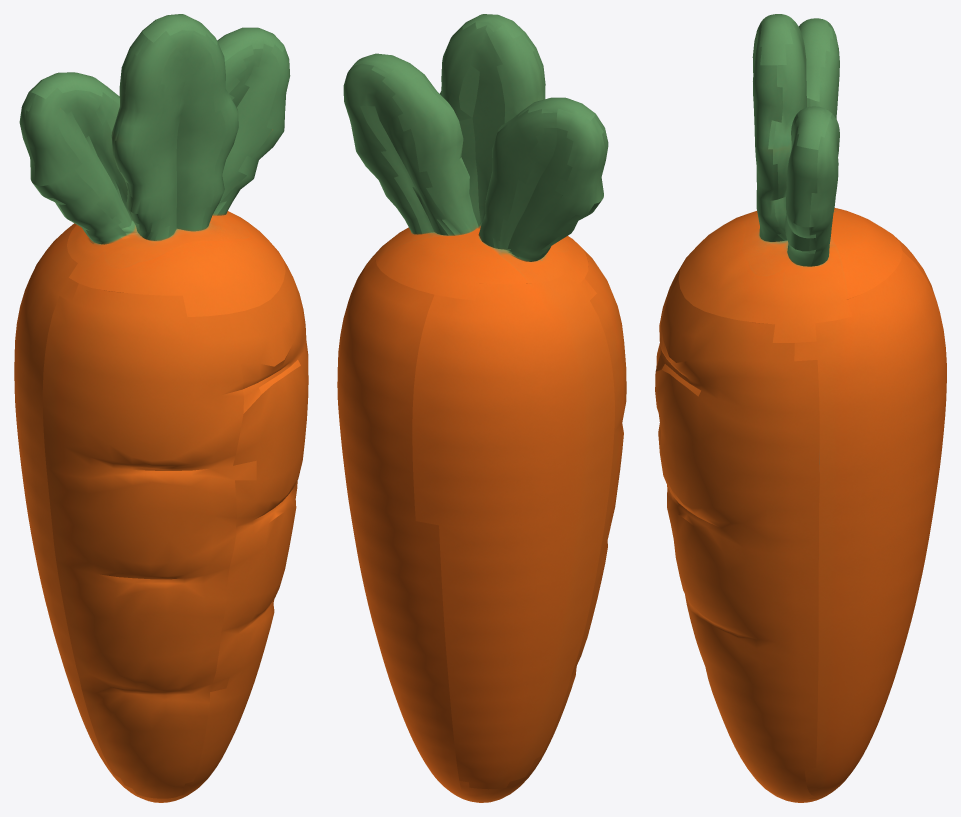
The model's file is carrot.glb.
3 views of the same model, side by side, from view 1: azimuth 30°, elevation 25°; view 2: azimuth 150°, elevation 25°; view 3: azimuth 270°, elevation 25° (orthographic). The views are drawn at different scales.
Visible parts, largest first — view 1: Mesh0; view 2: Mesh0; view 3: Mesh0.
Boxes of the visible parts, box(x1,y1,x2,y2) form: Mesh0: box(14, 14, 308, 802); Mesh0: box(337, 14, 626, 802); Mesh0: box(655, 14, 946, 802).
Size of the model in its own units: 0.6615 by 1.9 by 0.6451.
1 material, 1 textured.
